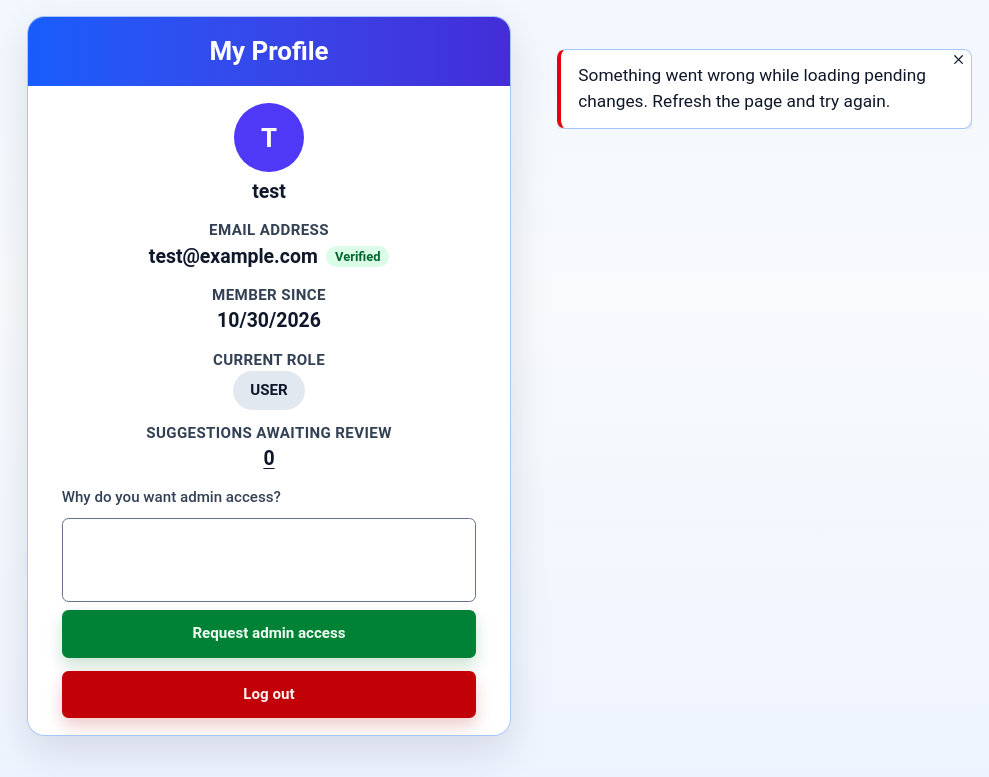
Test: Profile Component handle logout › handles logout failure due to unexpected error
Click the button "Log out". click: (269, 694)
box: [62,671,476,718]
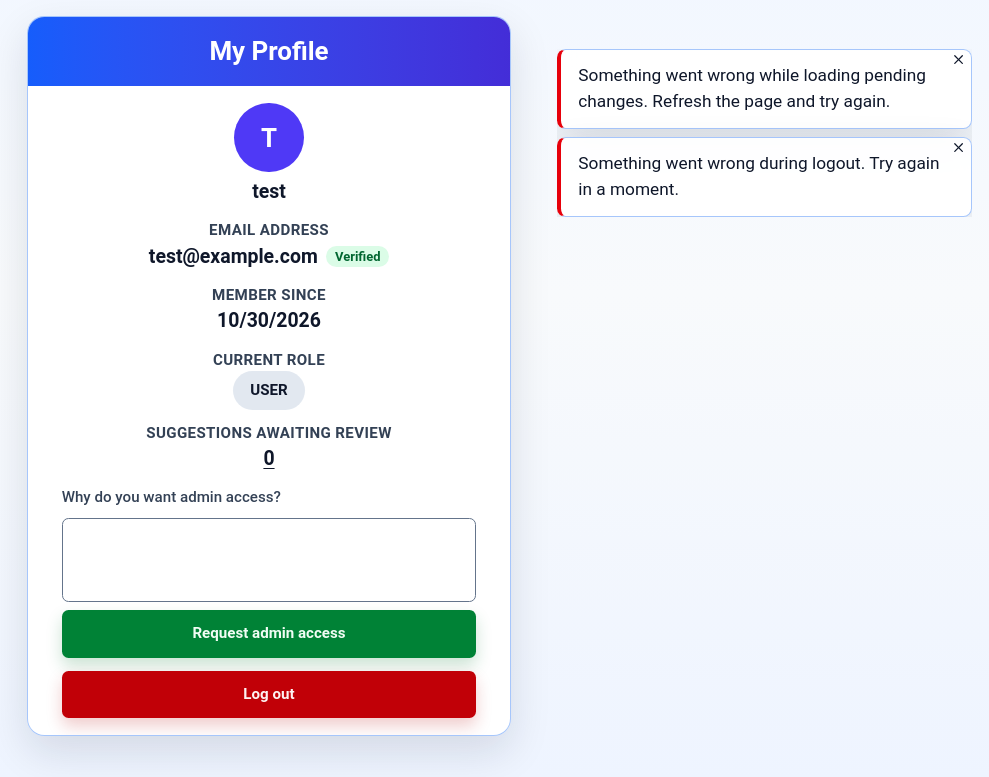
Result: the text "Something went wrong during logout. Try again in a moment." is shown at [578,151,954,203]
